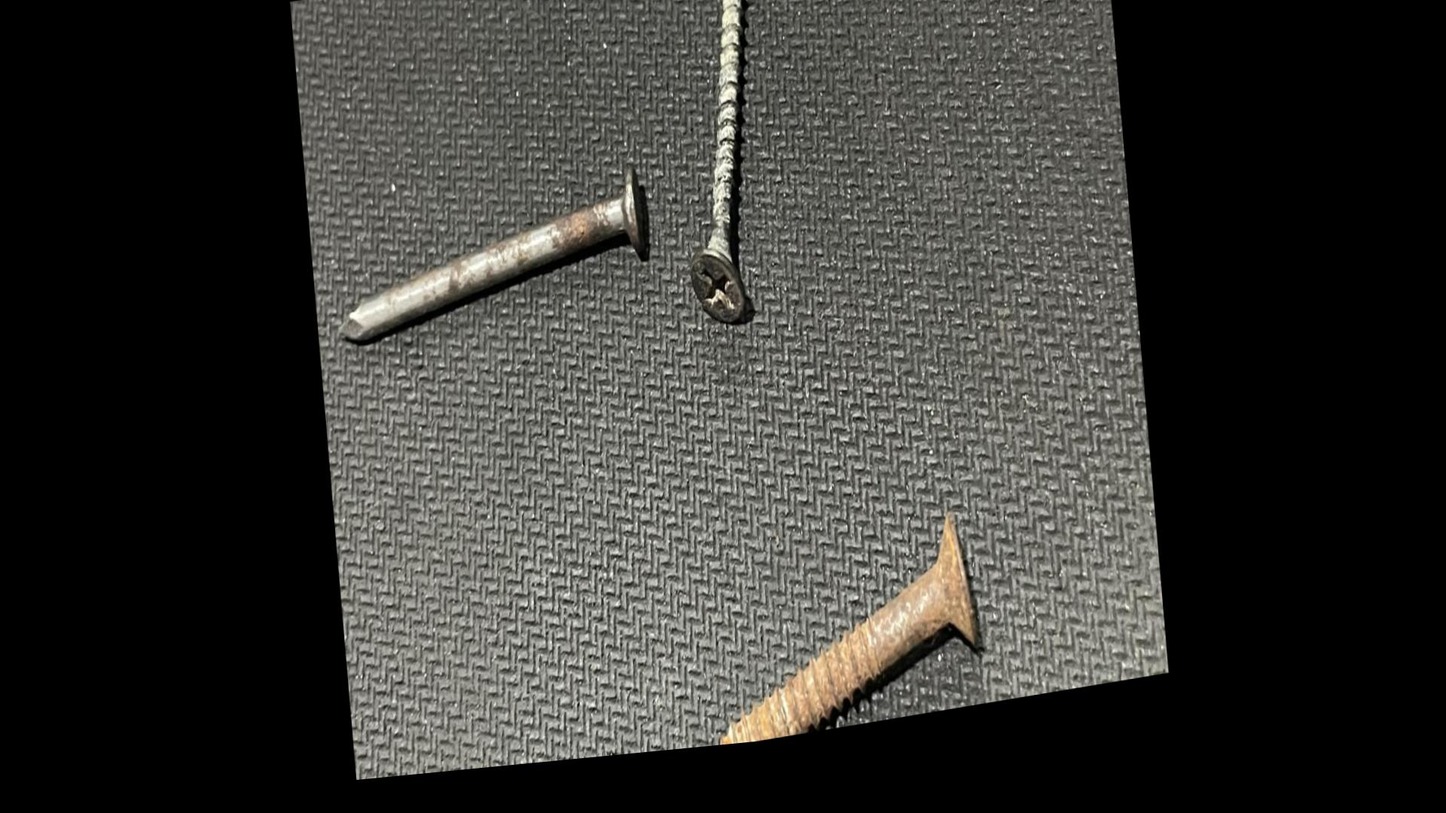nail: (319, 158, 659, 403)
screw: (675, 502, 989, 762), (654, 0, 793, 371)
